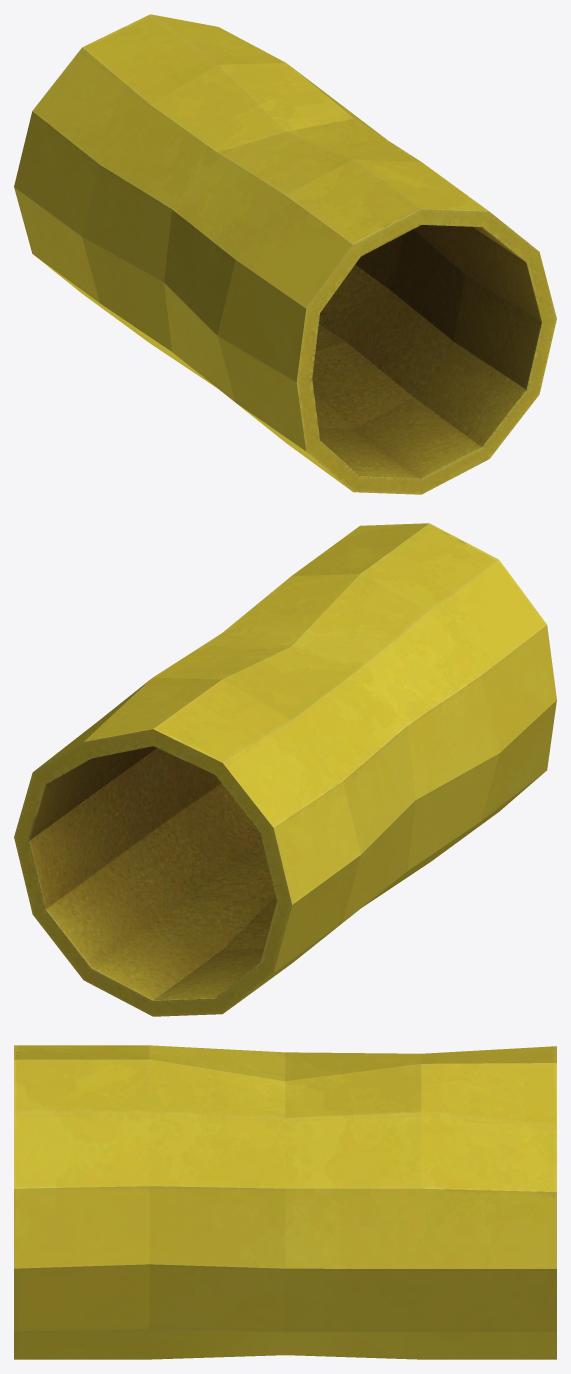
File: GoldPipe_Polished.glb
The picture shows the model from 3 angles, top to bottom: view 1: azimuth 30°, elevation 25°; view 2: azimuth 150°, elevation 25°; view 3: azimuth 270°, elevation 25°; orthographic projection.
Parts seen in each view (by area): view 1: GoldPipe_Polished; view 2: GoldPipe_Polished; view 3: GoldPipe_Polished.
Part boxes in pixels (<box>): GoldPipe_Polished: <box>14,14,556,494</box>; GoldPipe_Polished: <box>14,523,556,1016</box>; GoldPipe_Polished: <box>14,1045,556,1359</box>.
Bounding box in the file's own units: 0.3711 × 0.3711 × 0.6387.
Materials: 1 (1 with a texture image).
